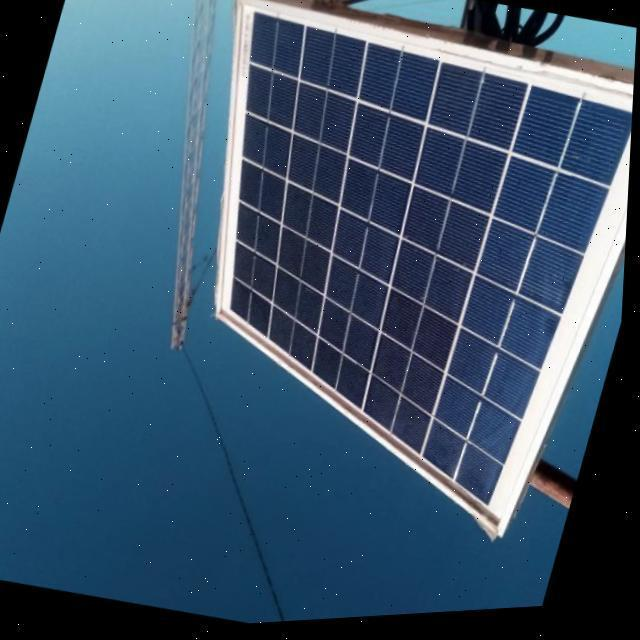Normal Solar Panel: (108, 0, 640, 577)
